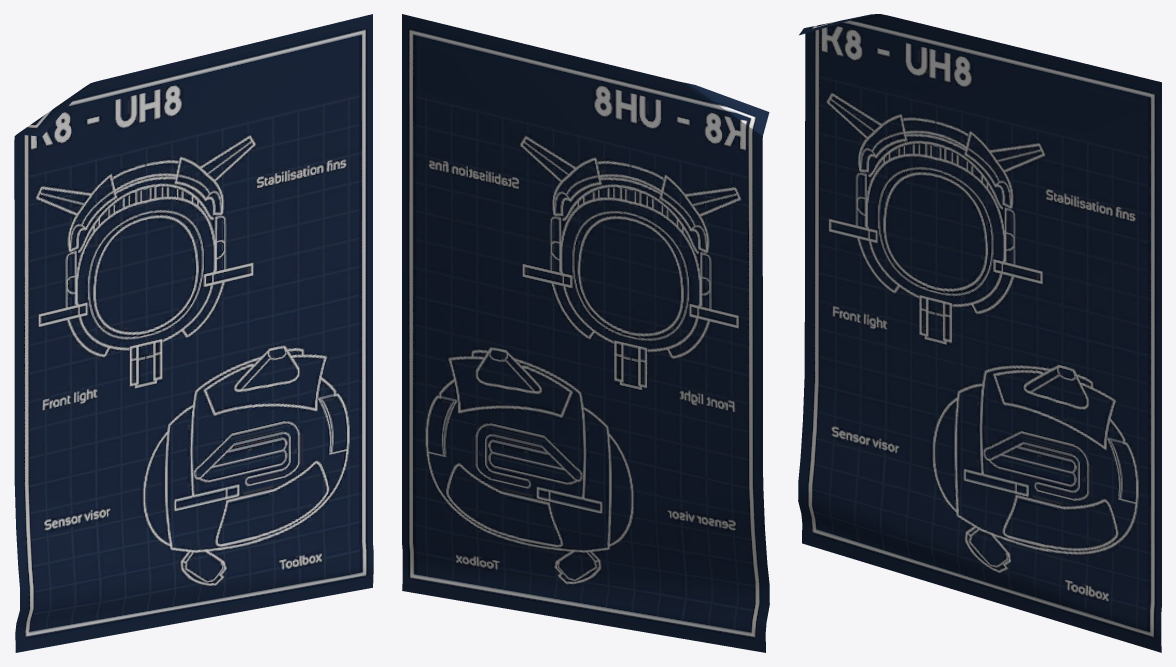
The model's file is poster_robot_repair_k8.dae.
3 renders of one model, left to right at view 1: azimuth 30°, elevation 25°; view 2: azimuth 150°, elevation 25°; view 3: azimuth 330°, elevation 25°, orthographic.
Visible parts, largest first — view 1: k8; view 2: k8; view 3: k8.
Part boxes in pixels (x1,y1,x2,y2): k8: (14,14,373,652); k8: (402,14,769,652); k8: (798,14,1161,652).
Size of the model in its own units: 0.6558 by 1 by 0.0545.
